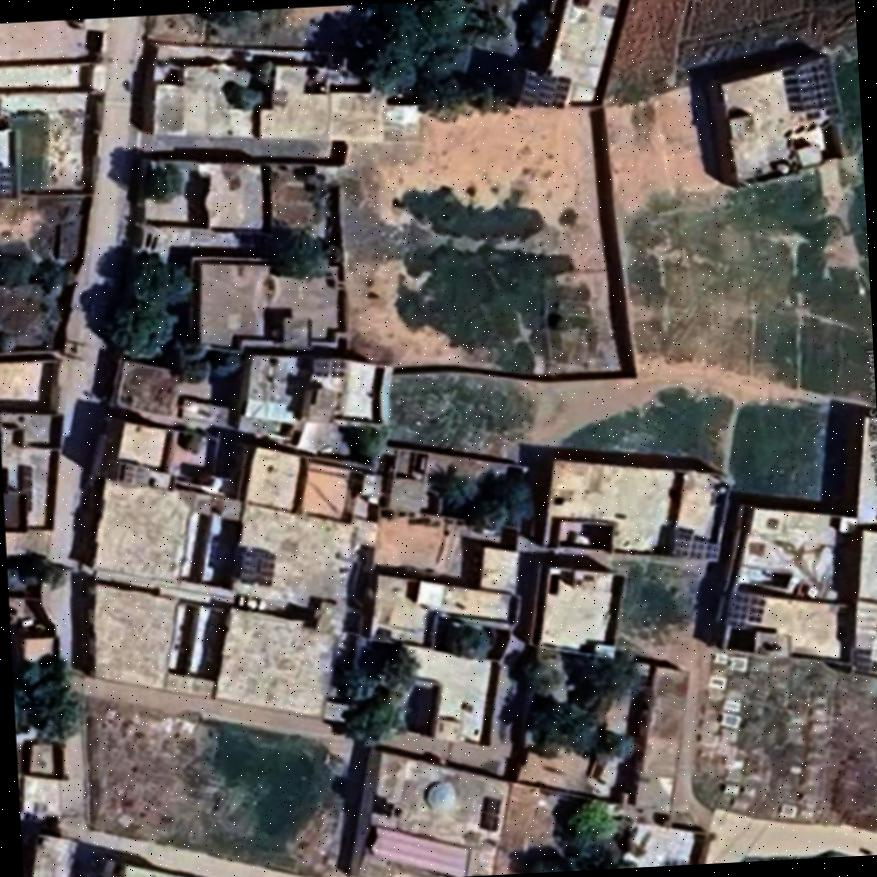Solarpanel: (795, 54, 841, 108), (515, 76, 571, 108), (237, 543, 272, 584), (726, 594, 764, 630), (668, 540, 722, 564), (0, 163, 15, 199)
